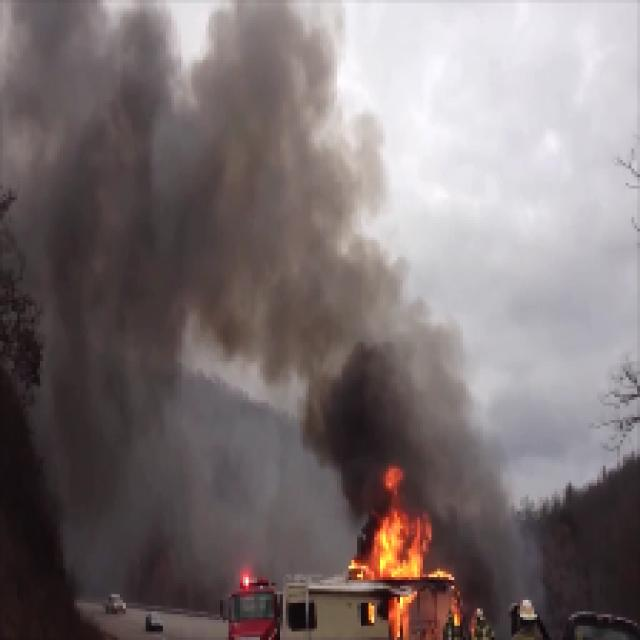fire: (370, 510, 430, 586)
smoke: (38, 118, 357, 331), (322, 352, 465, 466), (445, 486, 511, 626)
